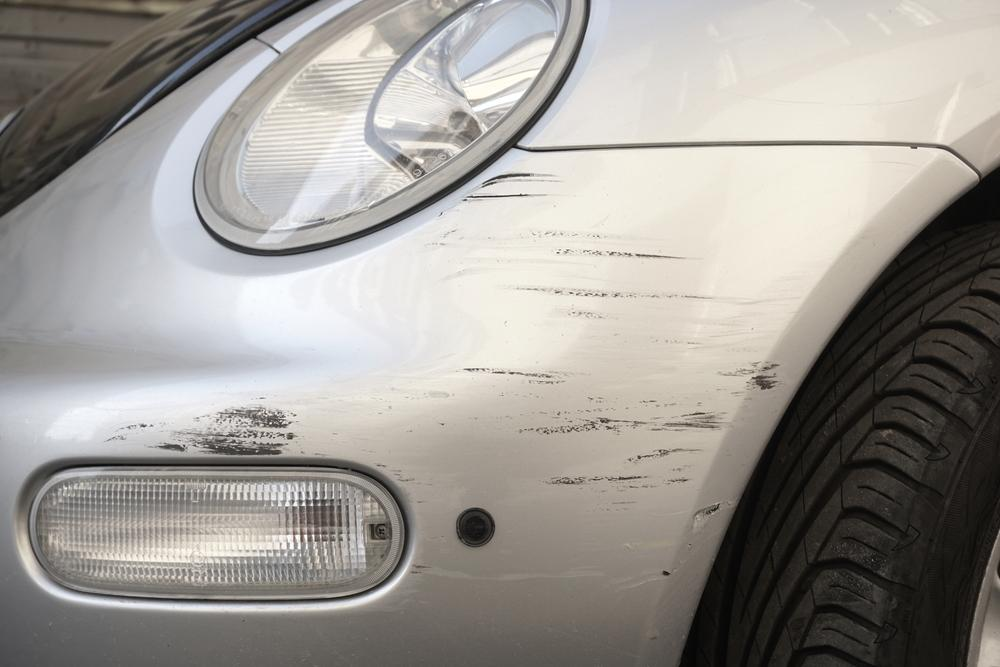scratch: (107, 175, 819, 644)
